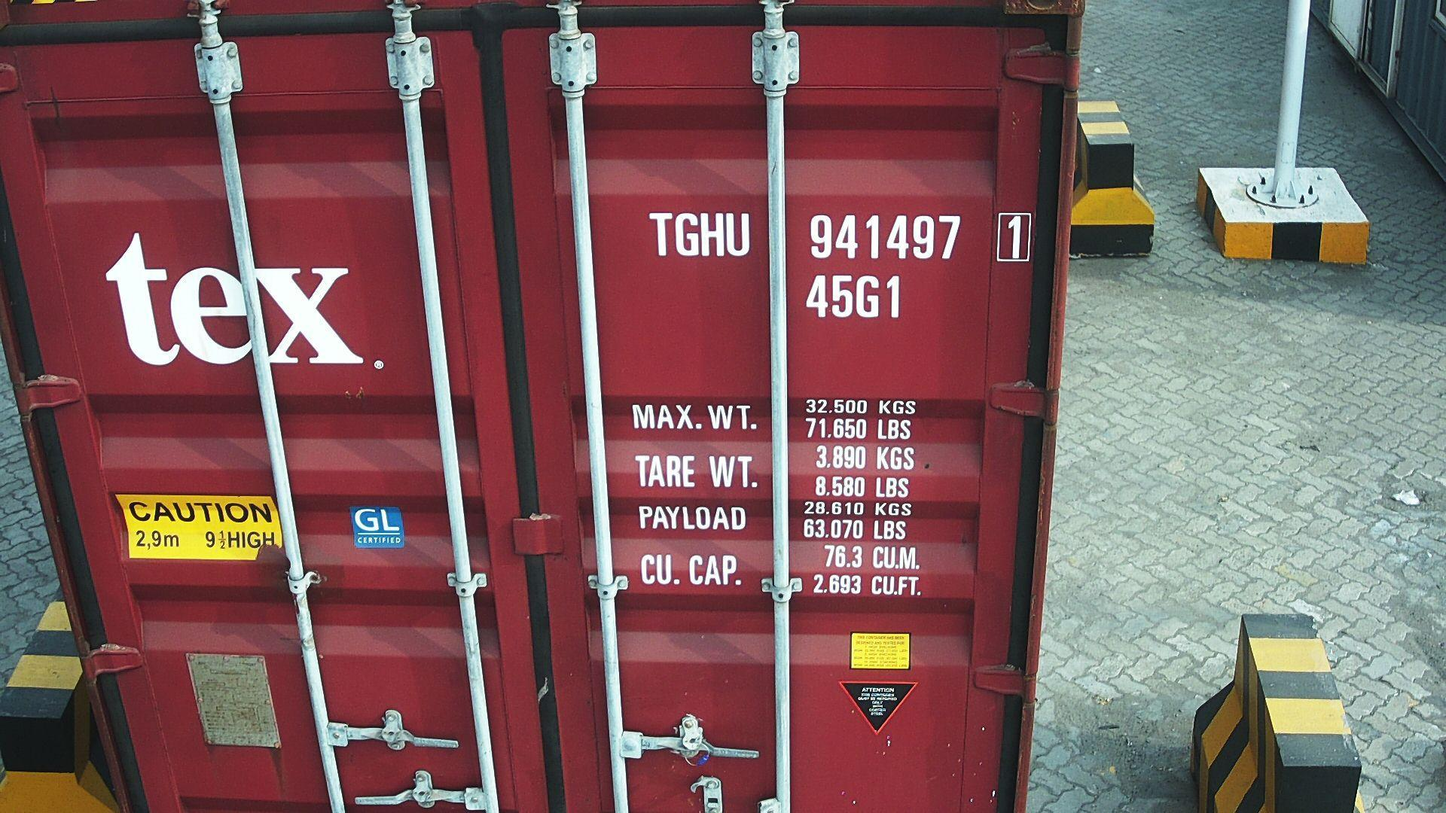container-numbers: (644, 208, 1035, 267), (799, 270, 903, 323)
